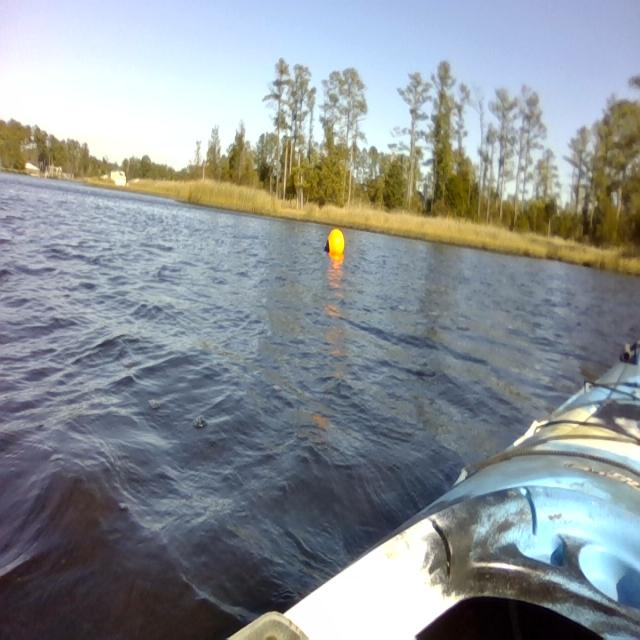Buoy: (320, 220, 354, 270)
